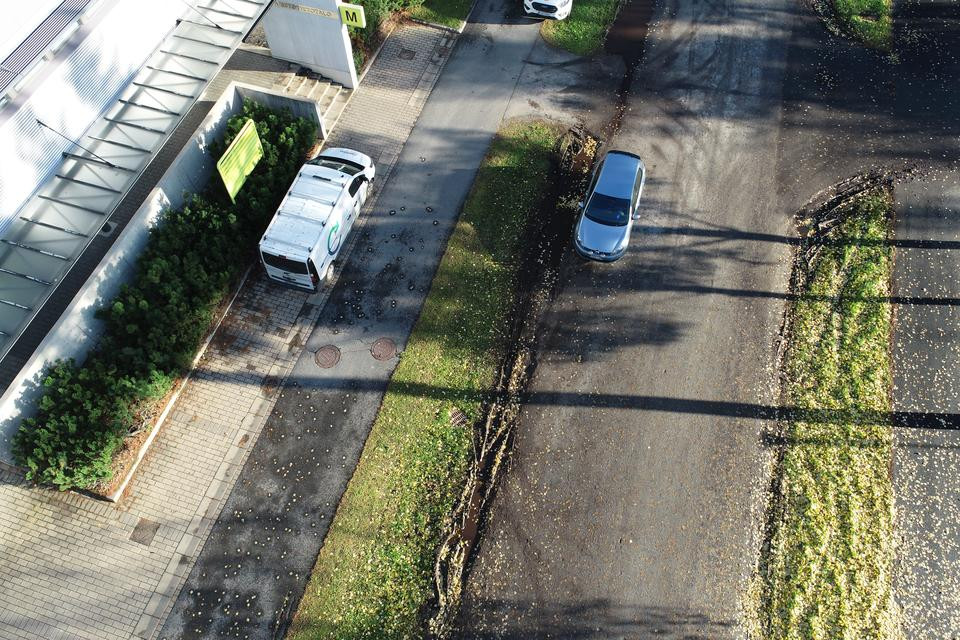intersection: (495, 0, 960, 264)
